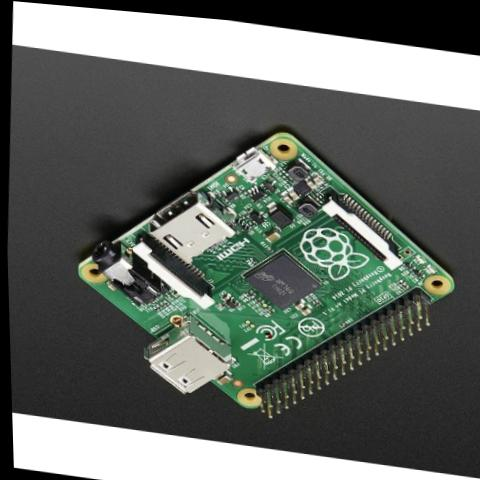Raspberry-Pi-1-Model-A-: (45, 88, 478, 446)
